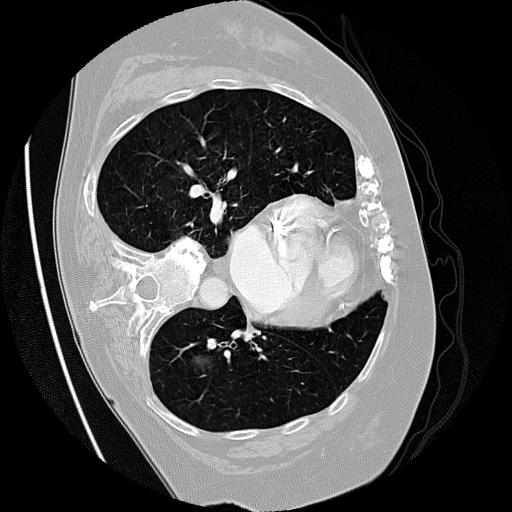nodule: (190, 348, 218, 376)
